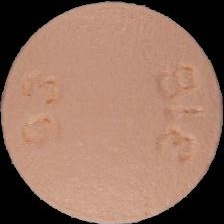0093-0318: (0, 0, 224, 224)
